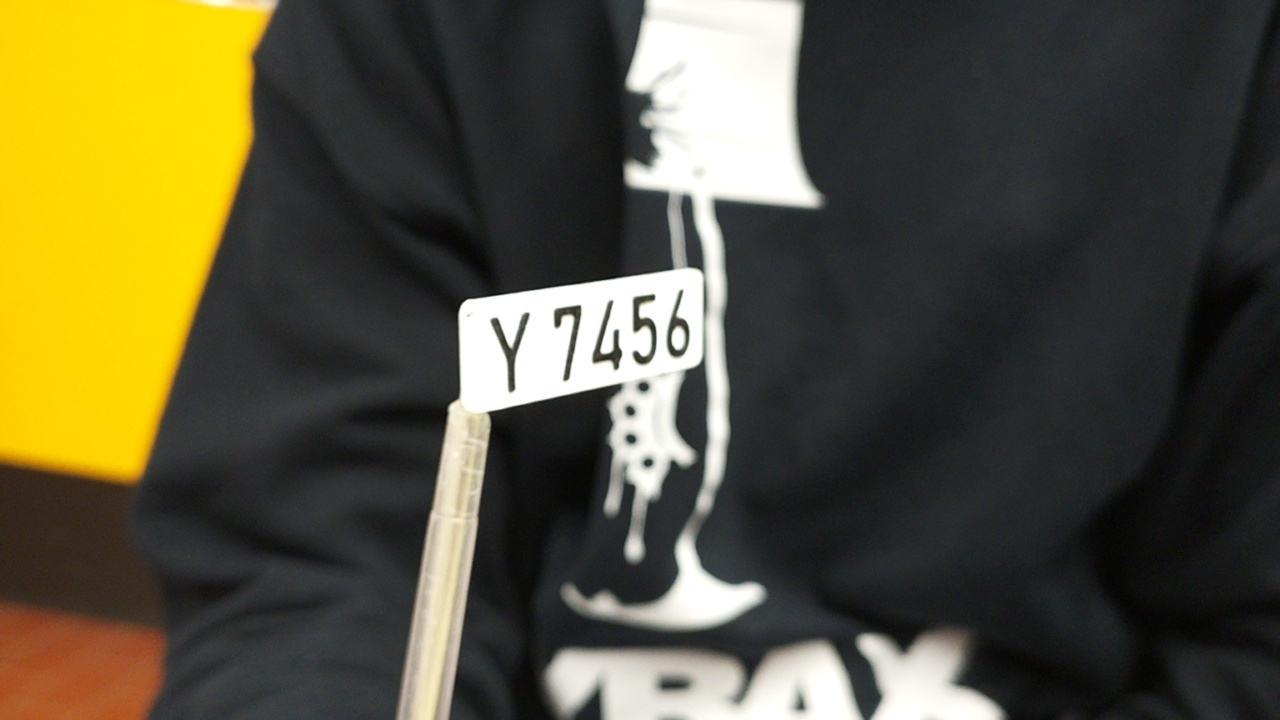license_plate: (455, 265, 711, 412)
